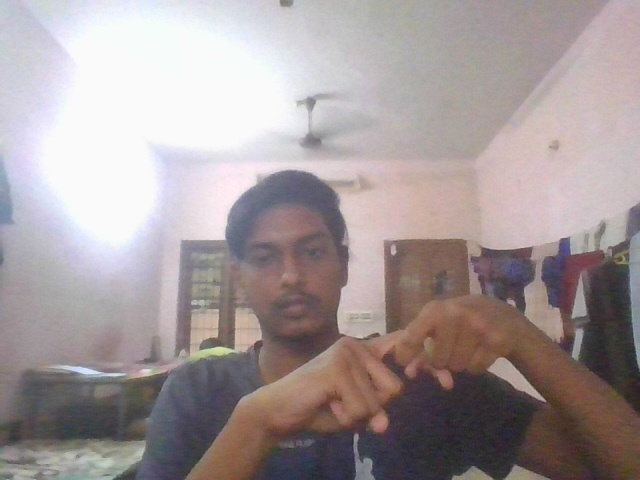friend: (260, 291, 538, 445)
